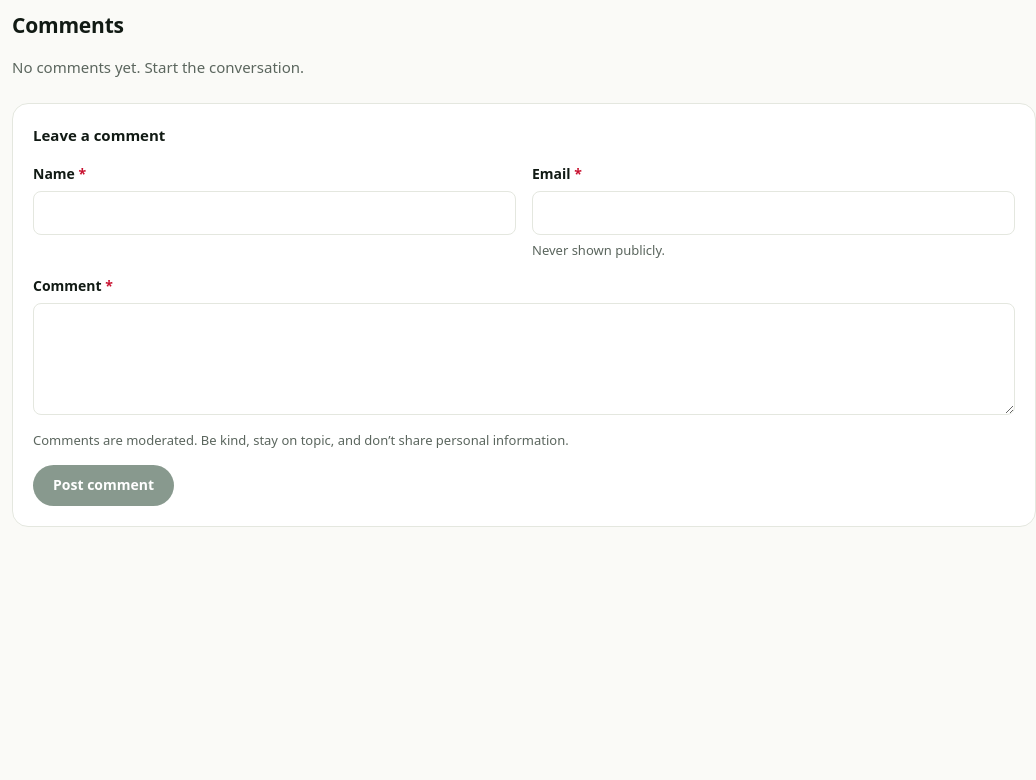
Test: Comments › shows RPC errors such as rate limits
The image size is (1036, 780).
Type "Ana" into the field labelled "Name *" at coordinates (274, 213), box [33,191,516,235]
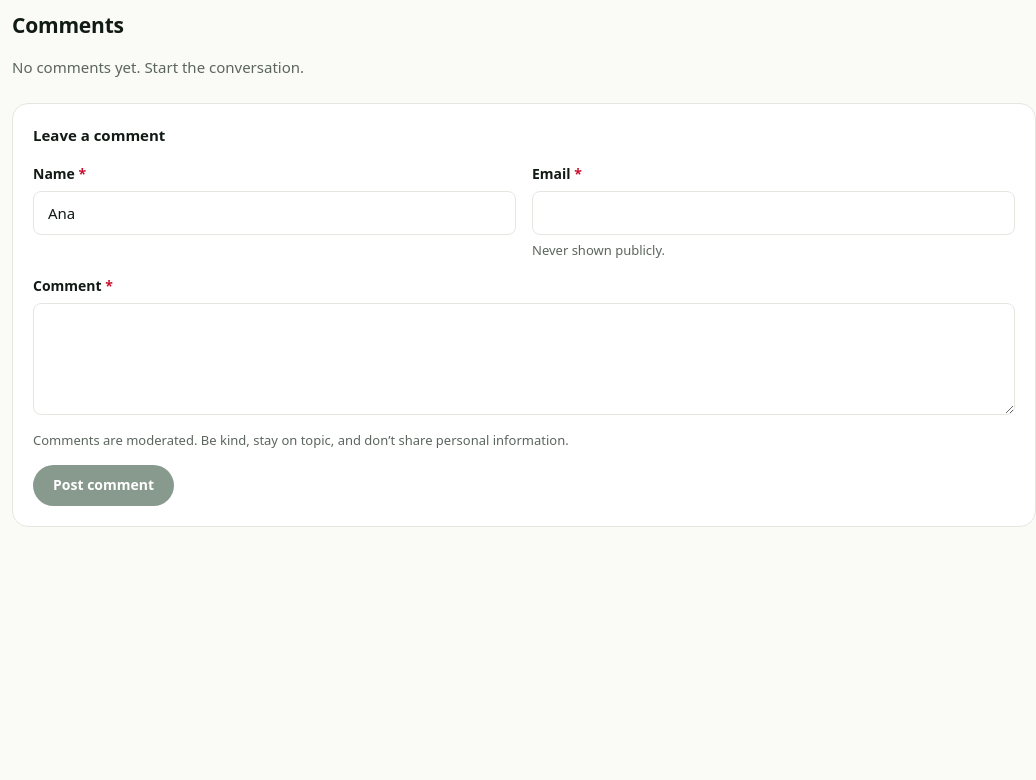
Type "ana@example.com" into the field labelled "Email *" at coordinates (774, 213), box [532,191,1015,235]
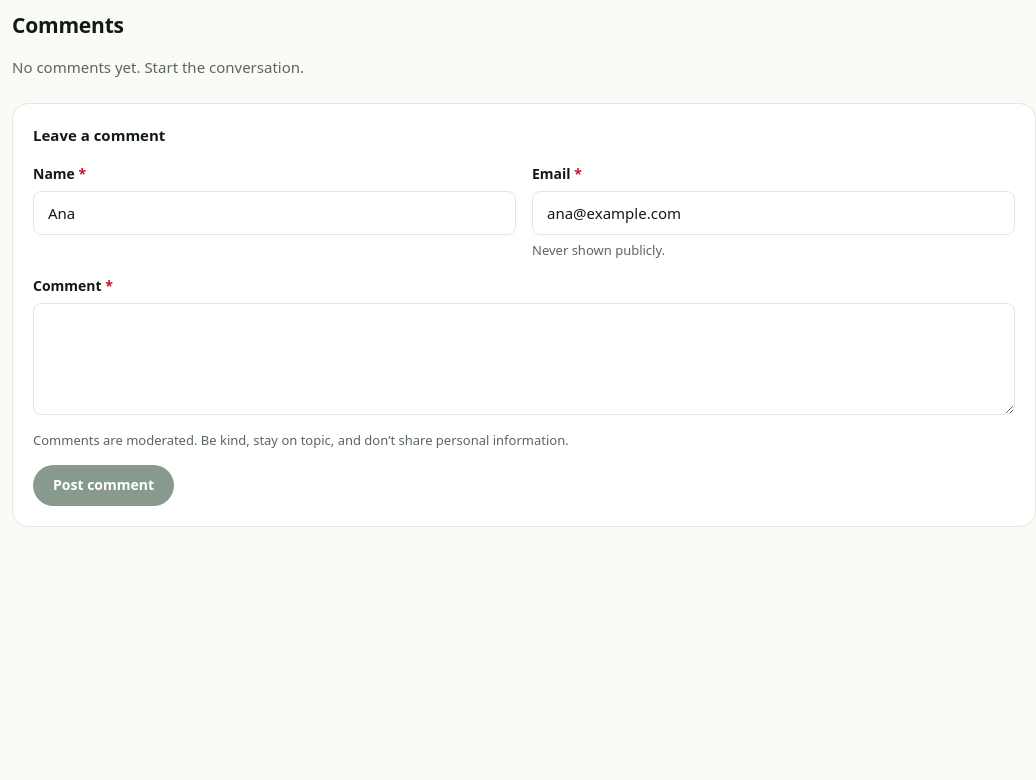
Type "Hello" into the text box labelled "Comment *" at coordinates (524, 359), box [33,303,1015,415]
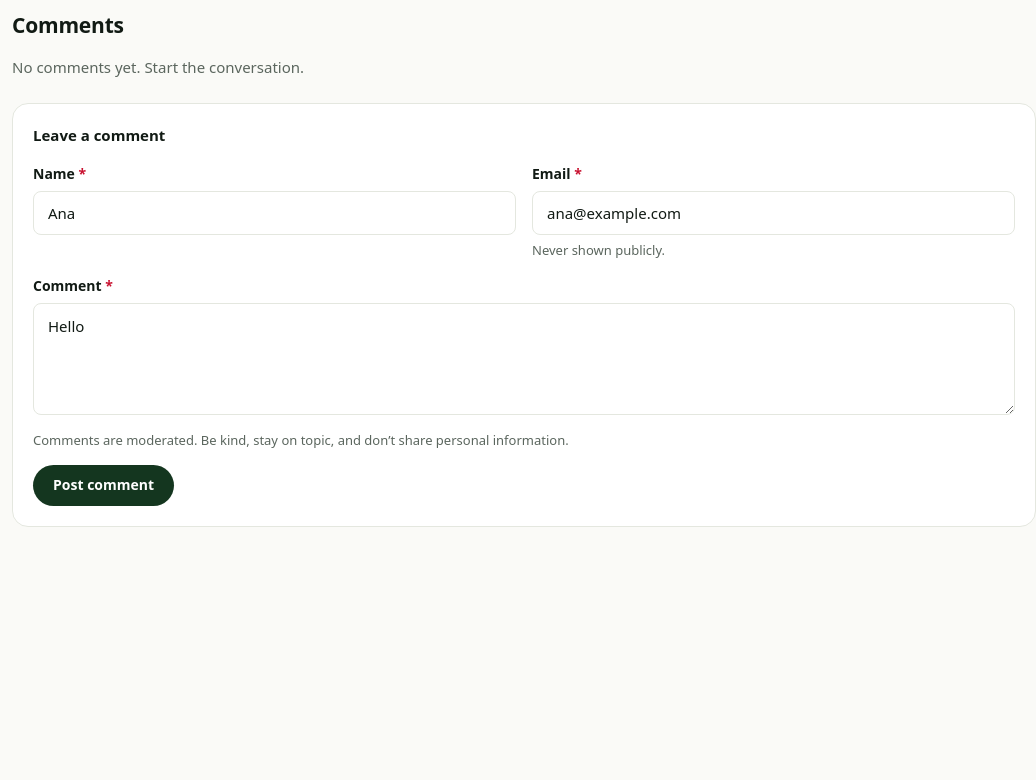
Click the button "Post comment" at coordinates (104, 485), box [33,465,174,506]
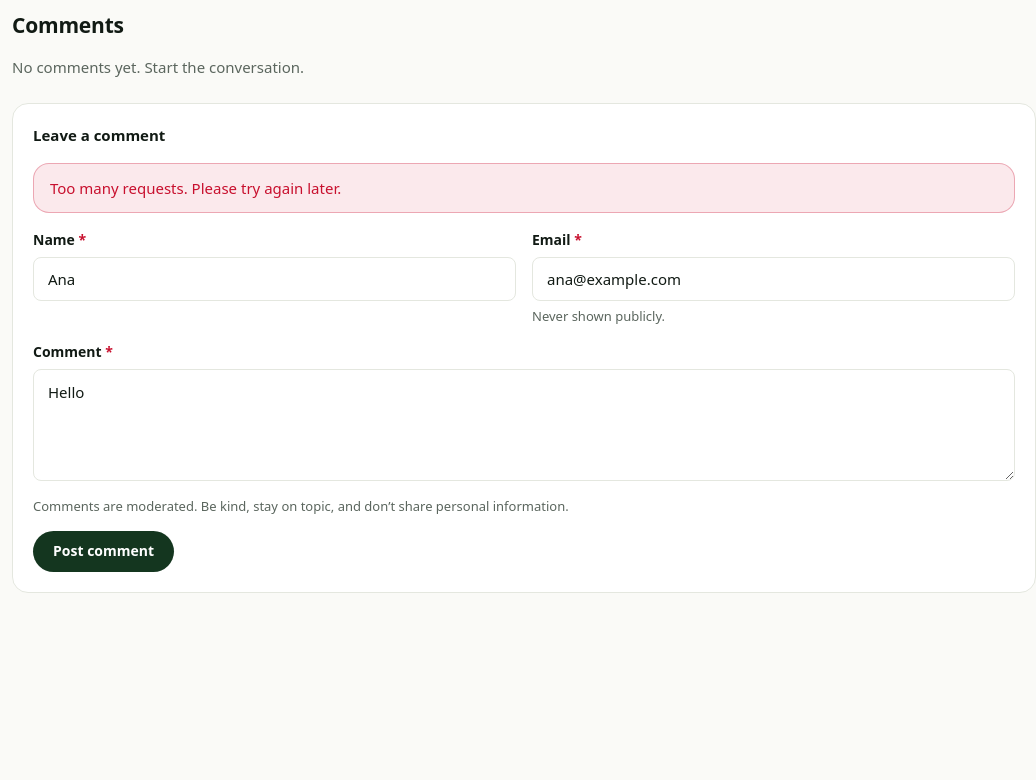
Expected: the message shows "Too many requests", [50,178,341,198]
